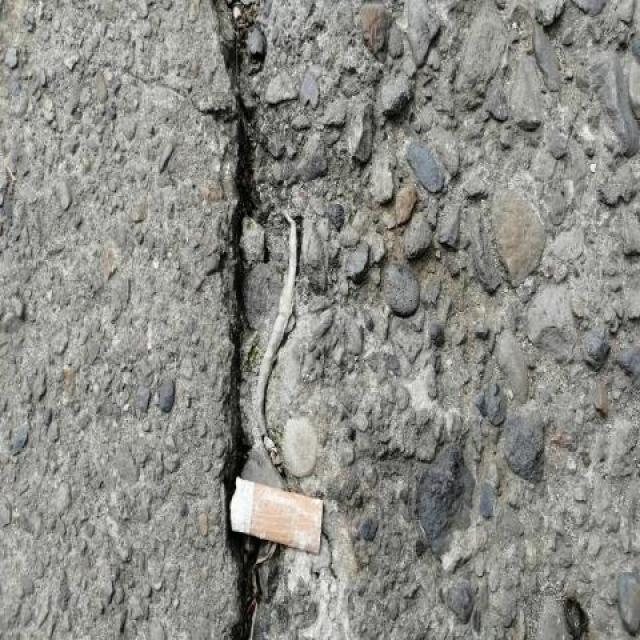non-organic waste: (226, 472, 331, 560)
